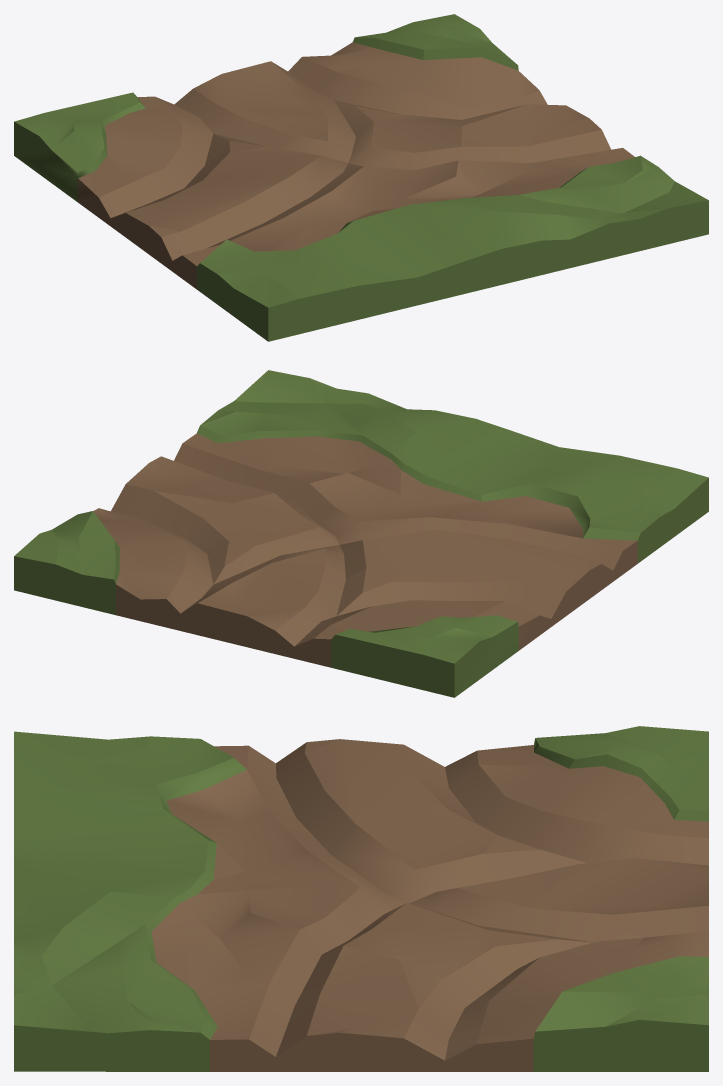
The model's file is Ground_Road_Crossroads_U.glb.
3 views of the same model, one above another, from view 1: azimuth 30°, elevation 25°; view 2: azimuth 150°, elevation 25°; view 3: azimuth 270°, elevation 25° (orthographic). The views are drawn at different scales.
Visible parts, largest first — view 1: Ground_Road_Crossroads_U; view 2: Ground_Road_Crossroads_U; view 3: Ground_Road_Crossroads_U.
Part boxes in pixels (x1,y1,x2,y2): Ground_Road_Crossroads_U: (14, 14, 708, 341); Ground_Road_Crossroads_U: (14, 370, 708, 697); Ground_Road_Crossroads_U: (14, 726, 708, 1071).
Size of the model in its own units: 1.47 by 0.1477 by 1.47.
